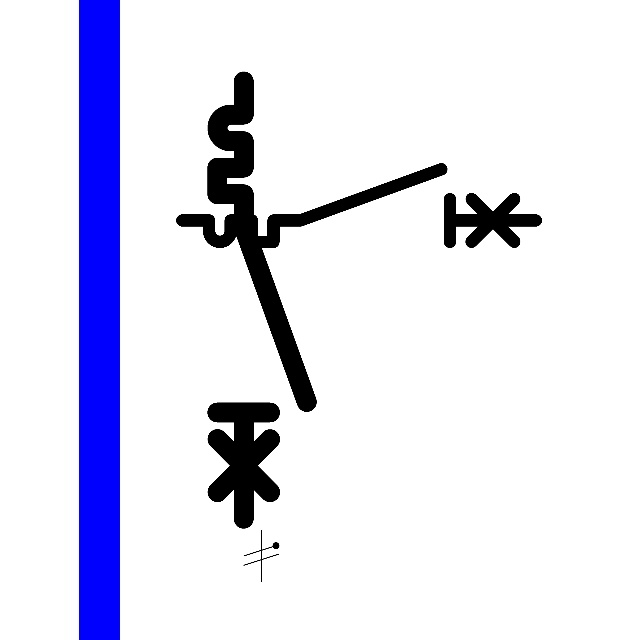interruptor_termomagnetico: (206, 70, 318, 530), (173, 160, 545, 251)
